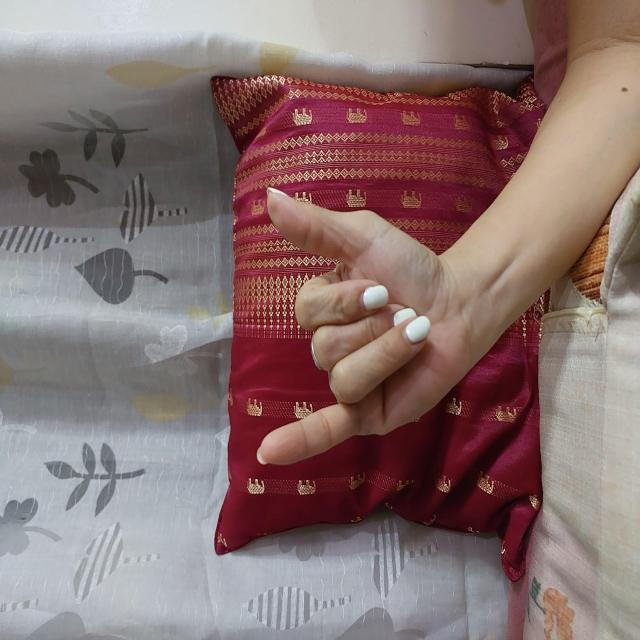Y: (170, 252, 456, 467)
